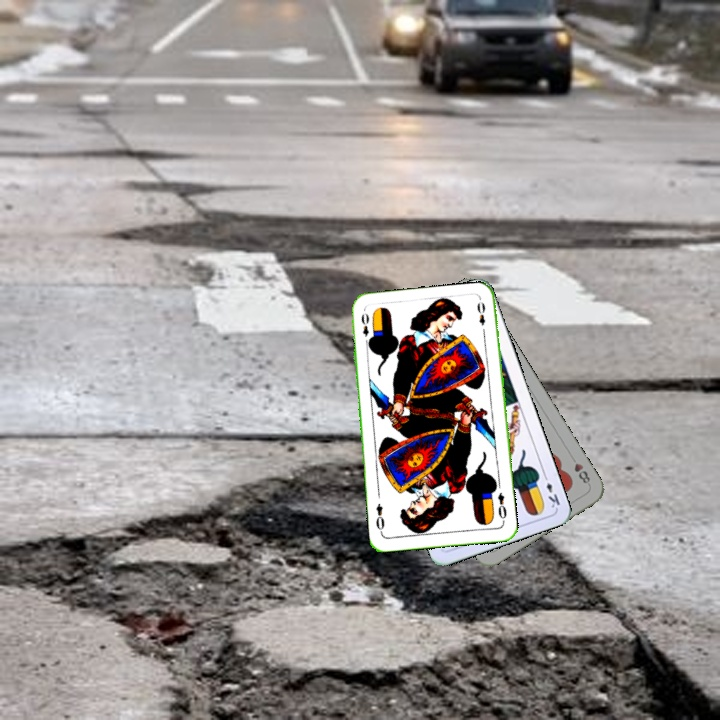EK: (539, 470, 563, 510)
EO: (357, 309, 374, 348), (493, 488, 509, 521)
H8: (567, 452, 593, 486)
